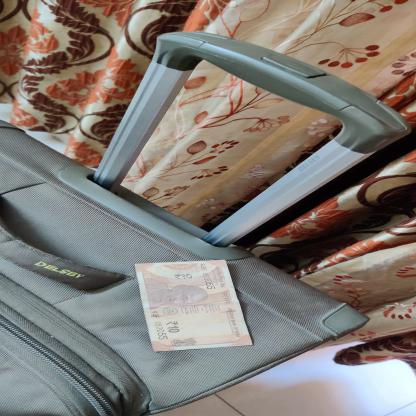New10Front: (132, 260, 257, 354)
